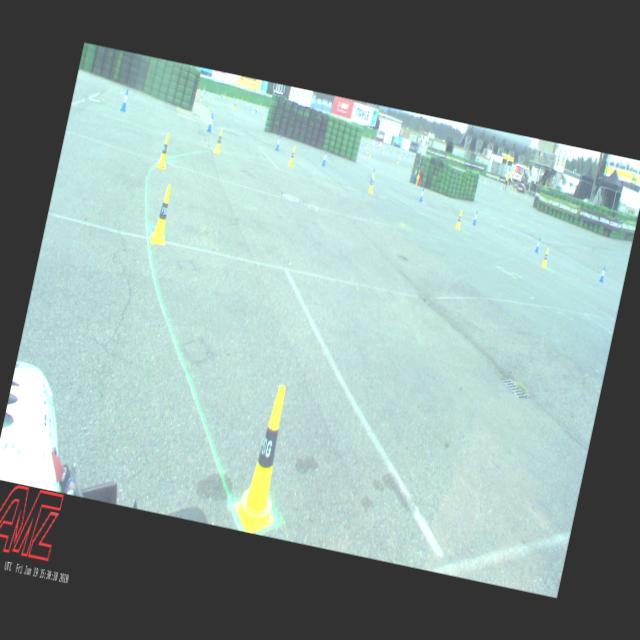blue_cone: (119, 88, 130, 112), (206, 113, 214, 132), (274, 134, 282, 151), (598, 266, 606, 282), (418, 186, 425, 202), (321, 150, 328, 166), (534, 236, 541, 252), (368, 168, 376, 182), (472, 209, 478, 225), (413, 168, 417, 178), (234, 99, 237, 106), (255, 106, 258, 113), (400, 152, 403, 158), (204, 88, 206, 95), (389, 148, 392, 152), (233, 96, 236, 100), (250, 102, 252, 108), (220, 92, 222, 97), (360, 142, 362, 146)
orange_cone: (365, 150, 368, 156), (198, 86, 201, 91)
yellow_cone: (230, 381, 302, 534), (148, 182, 176, 245), (156, 132, 172, 170), (213, 127, 224, 153), (454, 210, 464, 230), (540, 248, 550, 268), (366, 175, 376, 193), (288, 146, 296, 166), (416, 168, 420, 178), (233, 101, 237, 110), (212, 94, 215, 102), (252, 105, 255, 113), (263, 112, 266, 119), (368, 150, 371, 157), (199, 95, 202, 102), (396, 157, 399, 164), (231, 100, 234, 106), (195, 90, 198, 96), (513, 188, 516, 194), (224, 90, 226, 98), (236, 95, 238, 102), (263, 106, 266, 110), (365, 144, 367, 150), (393, 146, 395, 152), (202, 88, 204, 94), (222, 92, 225, 96), (382, 148, 384, 153), (240, 96, 242, 101), (510, 188, 512, 193), (246, 100, 248, 104), (257, 104, 259, 108), (484, 178, 486, 182), (500, 184, 501, 188)
